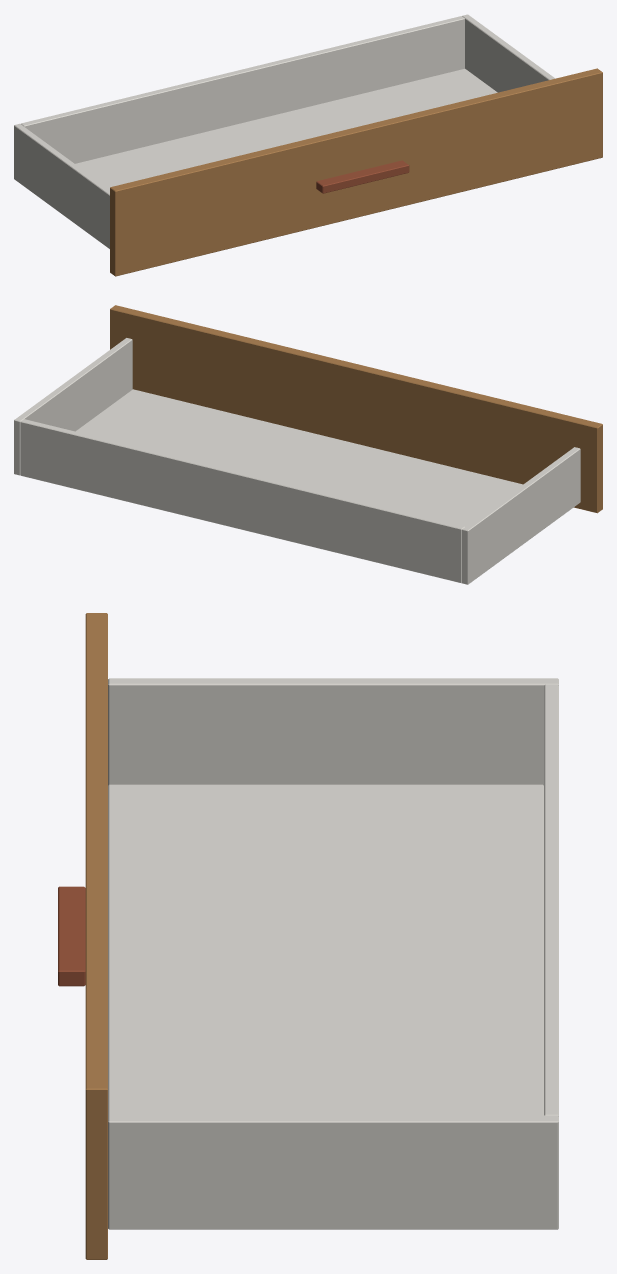
The model's file is glass_door_display_drawers_upper_drawer.glb.
3 views of the same model, one above another, from view 1: azimuth 30°, elevation 25°; view 2: azimuth 150°, elevation 25°; view 3: azimuth 270°, elevation 25° (orthographic). The views are drawn at different scales.
Visible parts, largest first — view 1: glass_door_display_drawers_upper_drawer.001; view 2: glass_door_display_drawers_upper_drawer.001; view 3: glass_door_display_drawers_upper_drawer.001.
Part boxes in pixels (box(x1,y1,x2,y2)): glass_door_display_drawers_upper_drawer.001: box(14, 14, 602, 276); glass_door_display_drawers_upper_drawer.001: box(14, 305, 602, 584); glass_door_display_drawers_upper_drawer.001: box(58, 613, 558, 1259).
Size of the model in its own units: 0.9 by 0.151 by 0.4.
